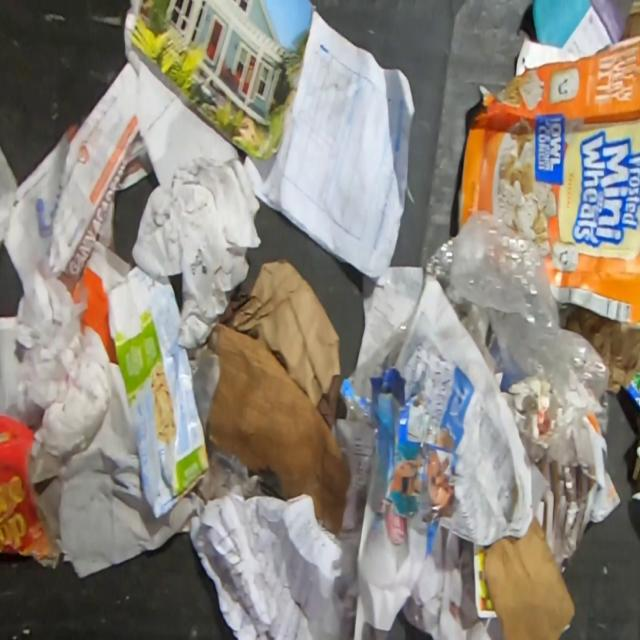cardboard: (456, 33, 640, 324), (208, 322, 351, 535), (339, 367, 457, 524), (483, 512, 577, 640), (0, 409, 59, 558)
metal: (627, 368, 640, 407)
rigid_plastic: (424, 234, 491, 358), (348, 310, 415, 400)
soft_plastic: (452, 209, 608, 441)
